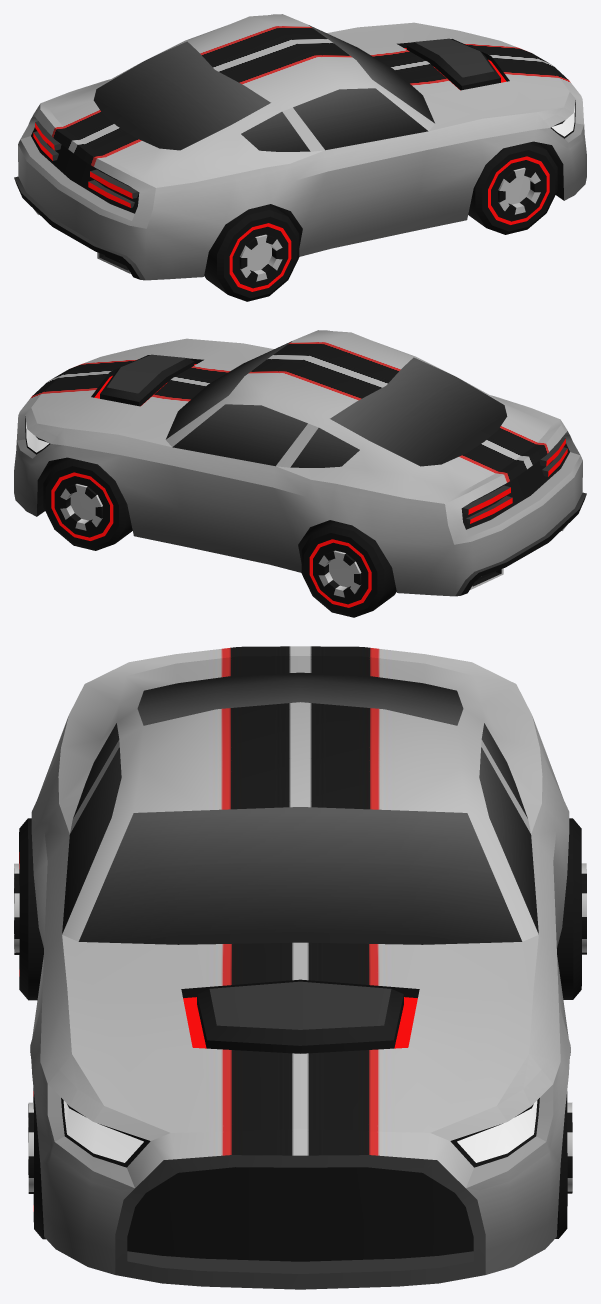
The model's file is RaceCar_090.glb.
3 renders of one model, top to bottom at view 1: azimuth 30°, elevation 25°; view 2: azimuth 150°, elevation 25°; view 3: azimuth 270°, elevation 25°, orthographic. The views are drawn at different scales.
Visible parts, largest first — view 1: RaceCar_090, wheel_3_RaceCar_090_Wheel_2R, wheel_1_RaceCar_090_Wheel_1R; view 2: RaceCar_090, wheel_2_RaceCar_090_Wheel_2L, wheel_0_RaceCar_090_Wheel_1L; view 3: RaceCar_090, wheel_3_RaceCar_090_Wheel_2R, wheel_2_RaceCar_090_Wheel_2L, wheel_0_RaceCar_090_Wheel_1L, wheel_1_RaceCar_090_Wheel_1R.
Boxes of the visible parts, x1,y1,x2,y2 form: RaceCar_090: [14, 14, 586, 280]; wheel_3_RaceCar_090_Wheel_2R: [204, 204, 299, 301]; wheel_1_RaceCar_090_Wheel_1R: [468, 141, 557, 234]; RaceCar_090: [14, 330, 586, 596]; wheel_2_RaceCar_090_Wheel_2L: [301, 520, 396, 617]; wheel_0_RaceCar_090_Wheel_1L: [43, 457, 132, 550]; RaceCar_090: [30, 646, 570, 1289]; wheel_3_RaceCar_090_Wheel_2R: [14, 818, 43, 1000]; wheel_2_RaceCar_090_Wheel_2L: [557, 818, 586, 999]; wheel_0_RaceCar_090_Wheel_1L: [555, 1091, 572, 1238]; wheel_1_RaceCar_090_Wheel_1R: [28, 1088, 45, 1239].
Bounding box in the file's own units: 3.84 × 1.3 × 2.03.
Materials: 2 (2 with a texture image).
